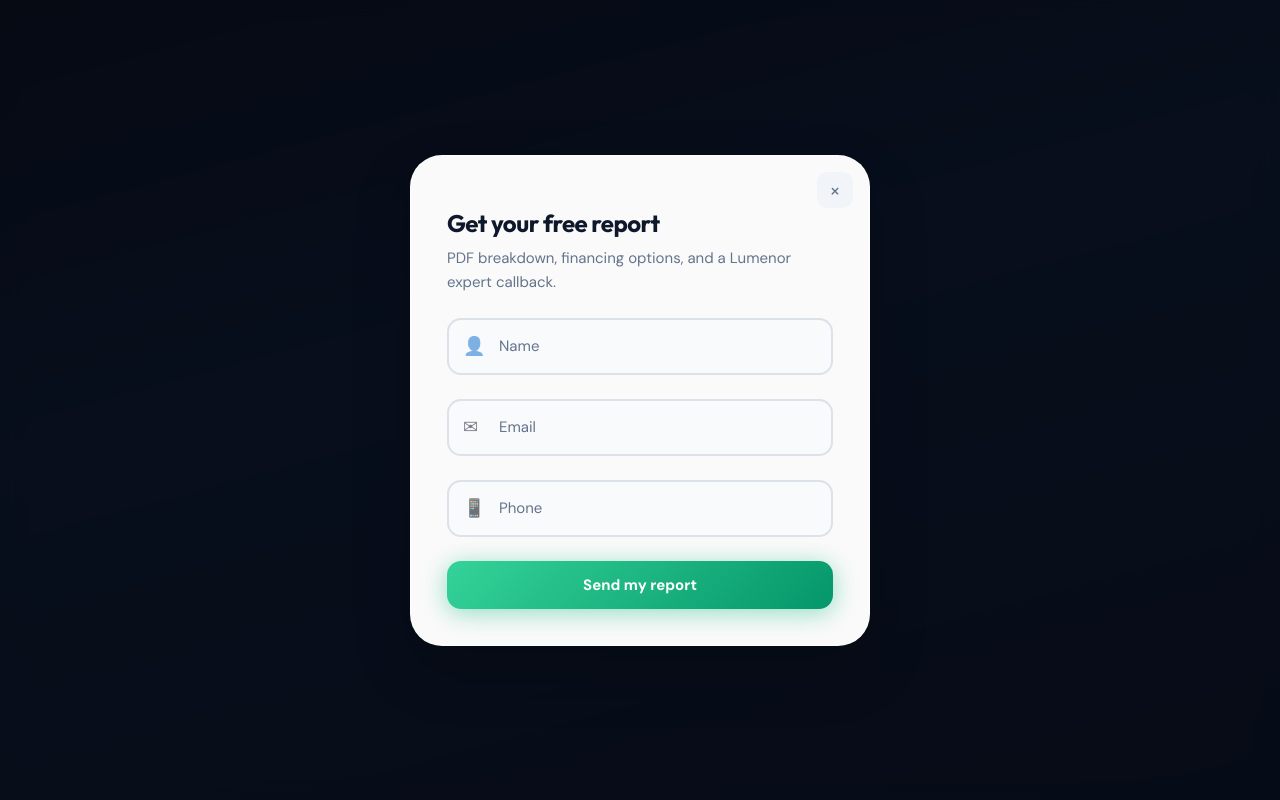
ContactModal › shows a validation error when both email and phone are empty on submit
Click the button "Send my report". click: [640, 584]
box: x1=447 y1=560 x2=833 y2=608
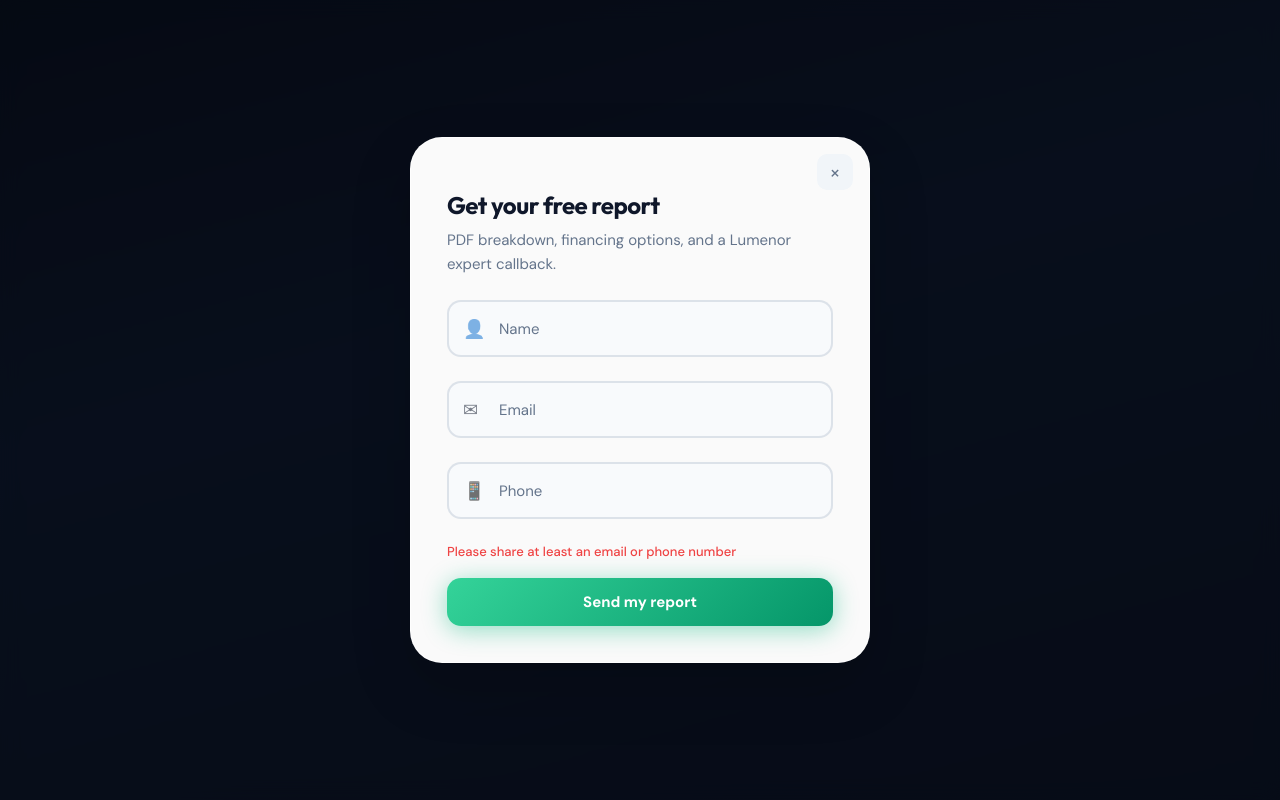
expect the text "Please share at least an email or phone number" is shown: met, box x1=447 y1=543 x2=736 y2=560
